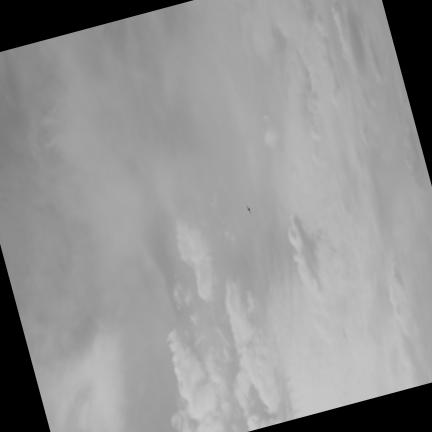Shahed: (245, 204, 251, 213)
